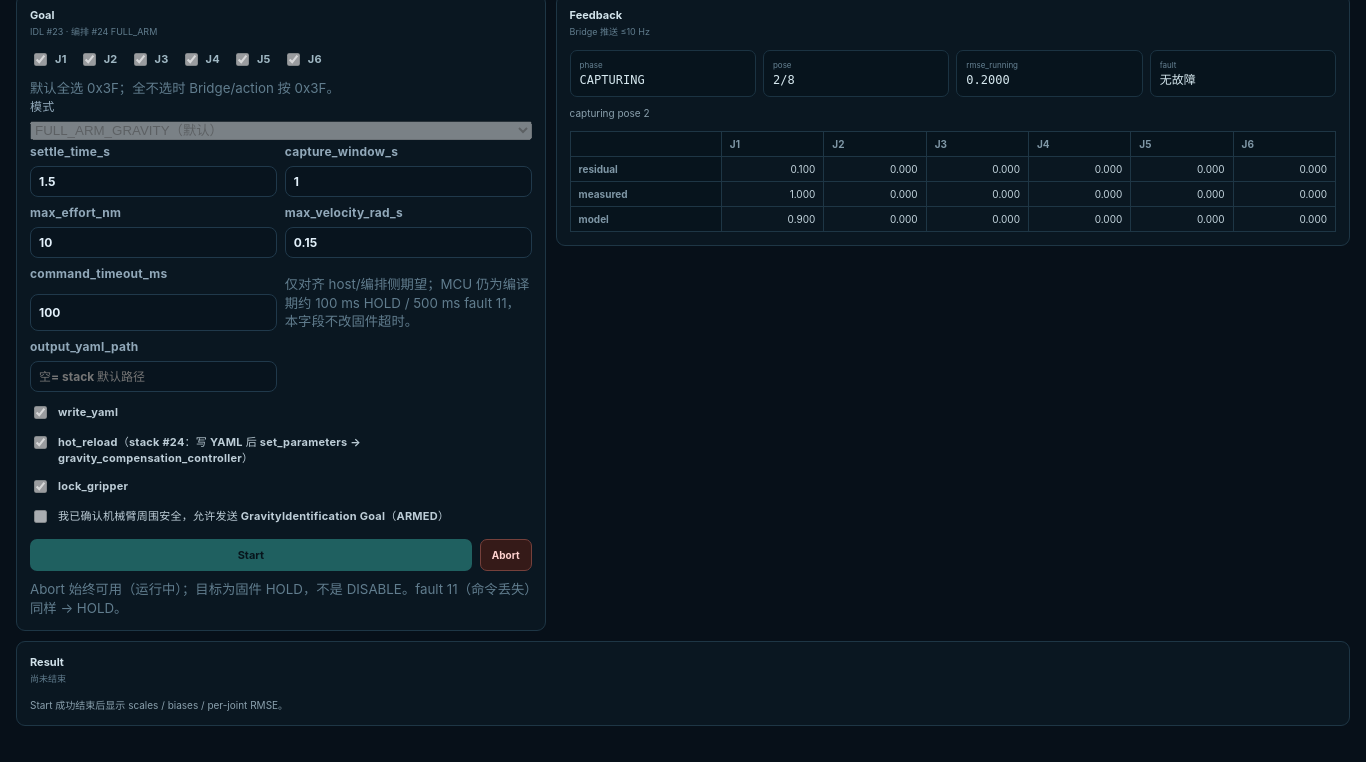
Test: GravityIdentificationPage › shows feedback and result; Abort always while running
(page scrolled)
Check: the text "CAPTURING" is shown, box [580,72,645,86]
Check: the text "2/8" is shown, box [773,72,795,86]
Click the button "Abort" at (506, 555), box [480,539,532,571]
(page scrolled)
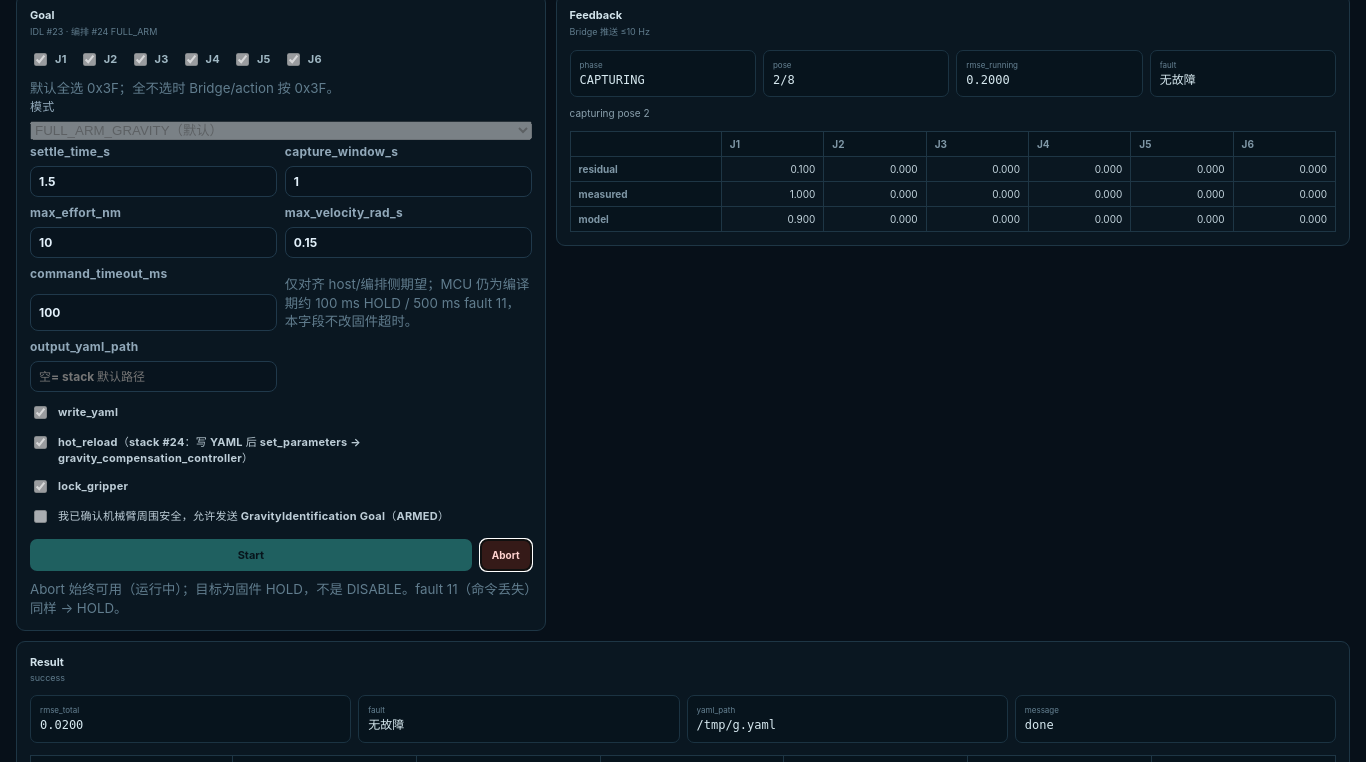
Check: the text "/tmp/g.yaml" is shown, box [696,718,776,732]
